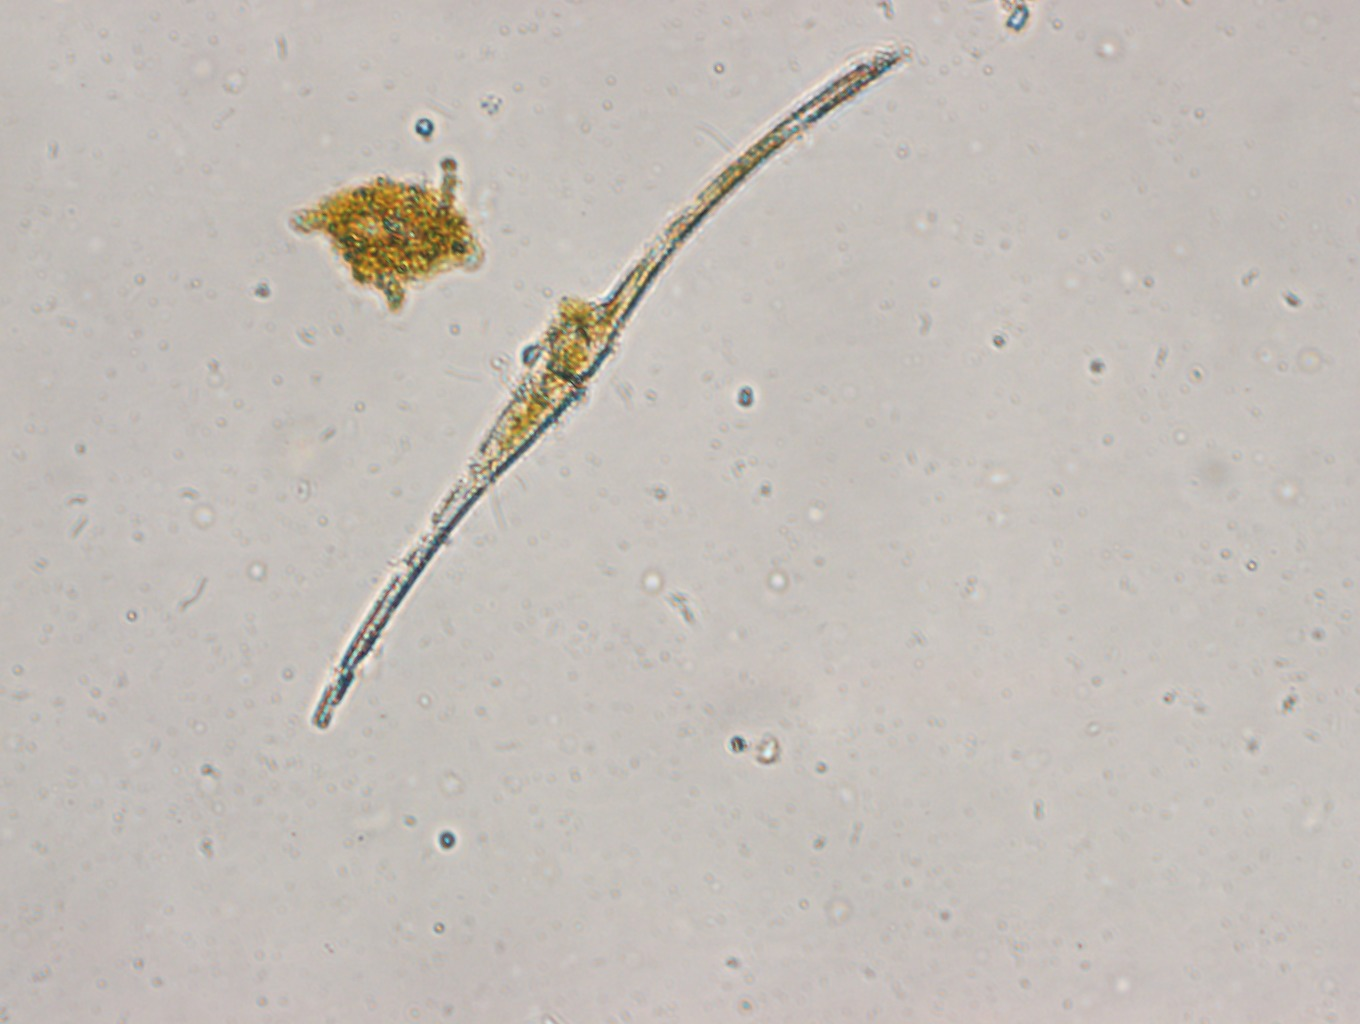ceratium fusus: (307, 32, 917, 742)
